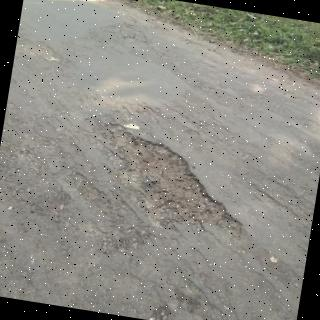pothole: (105, 134, 241, 242)
